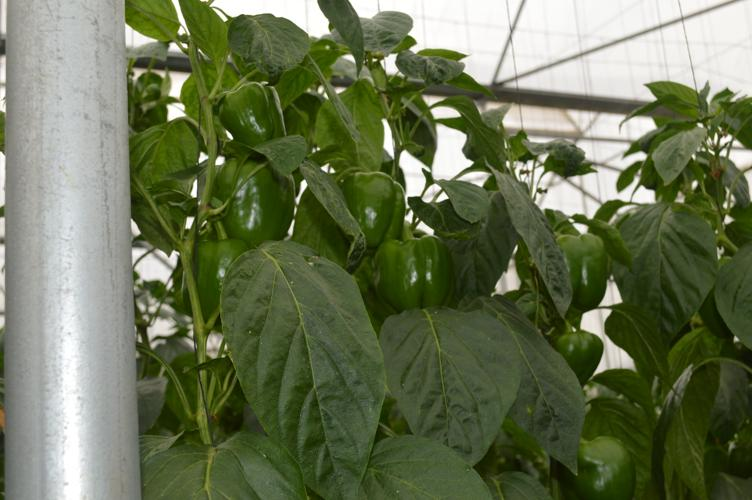BellPepper: (205, 151, 297, 242), (365, 226, 461, 309), (534, 221, 607, 321), (328, 167, 406, 255), (171, 228, 246, 317), (555, 424, 632, 500), (207, 80, 289, 150), (537, 319, 618, 383)
